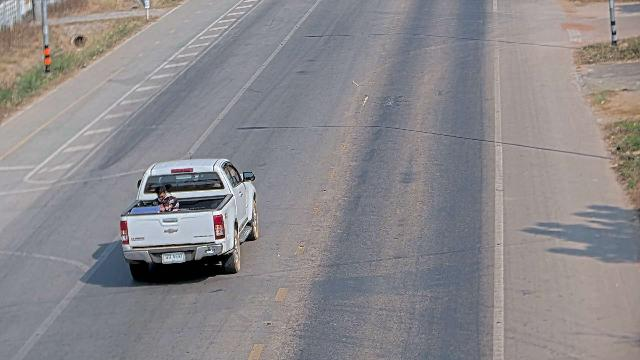pickup-truck: (119, 157, 260, 281)
